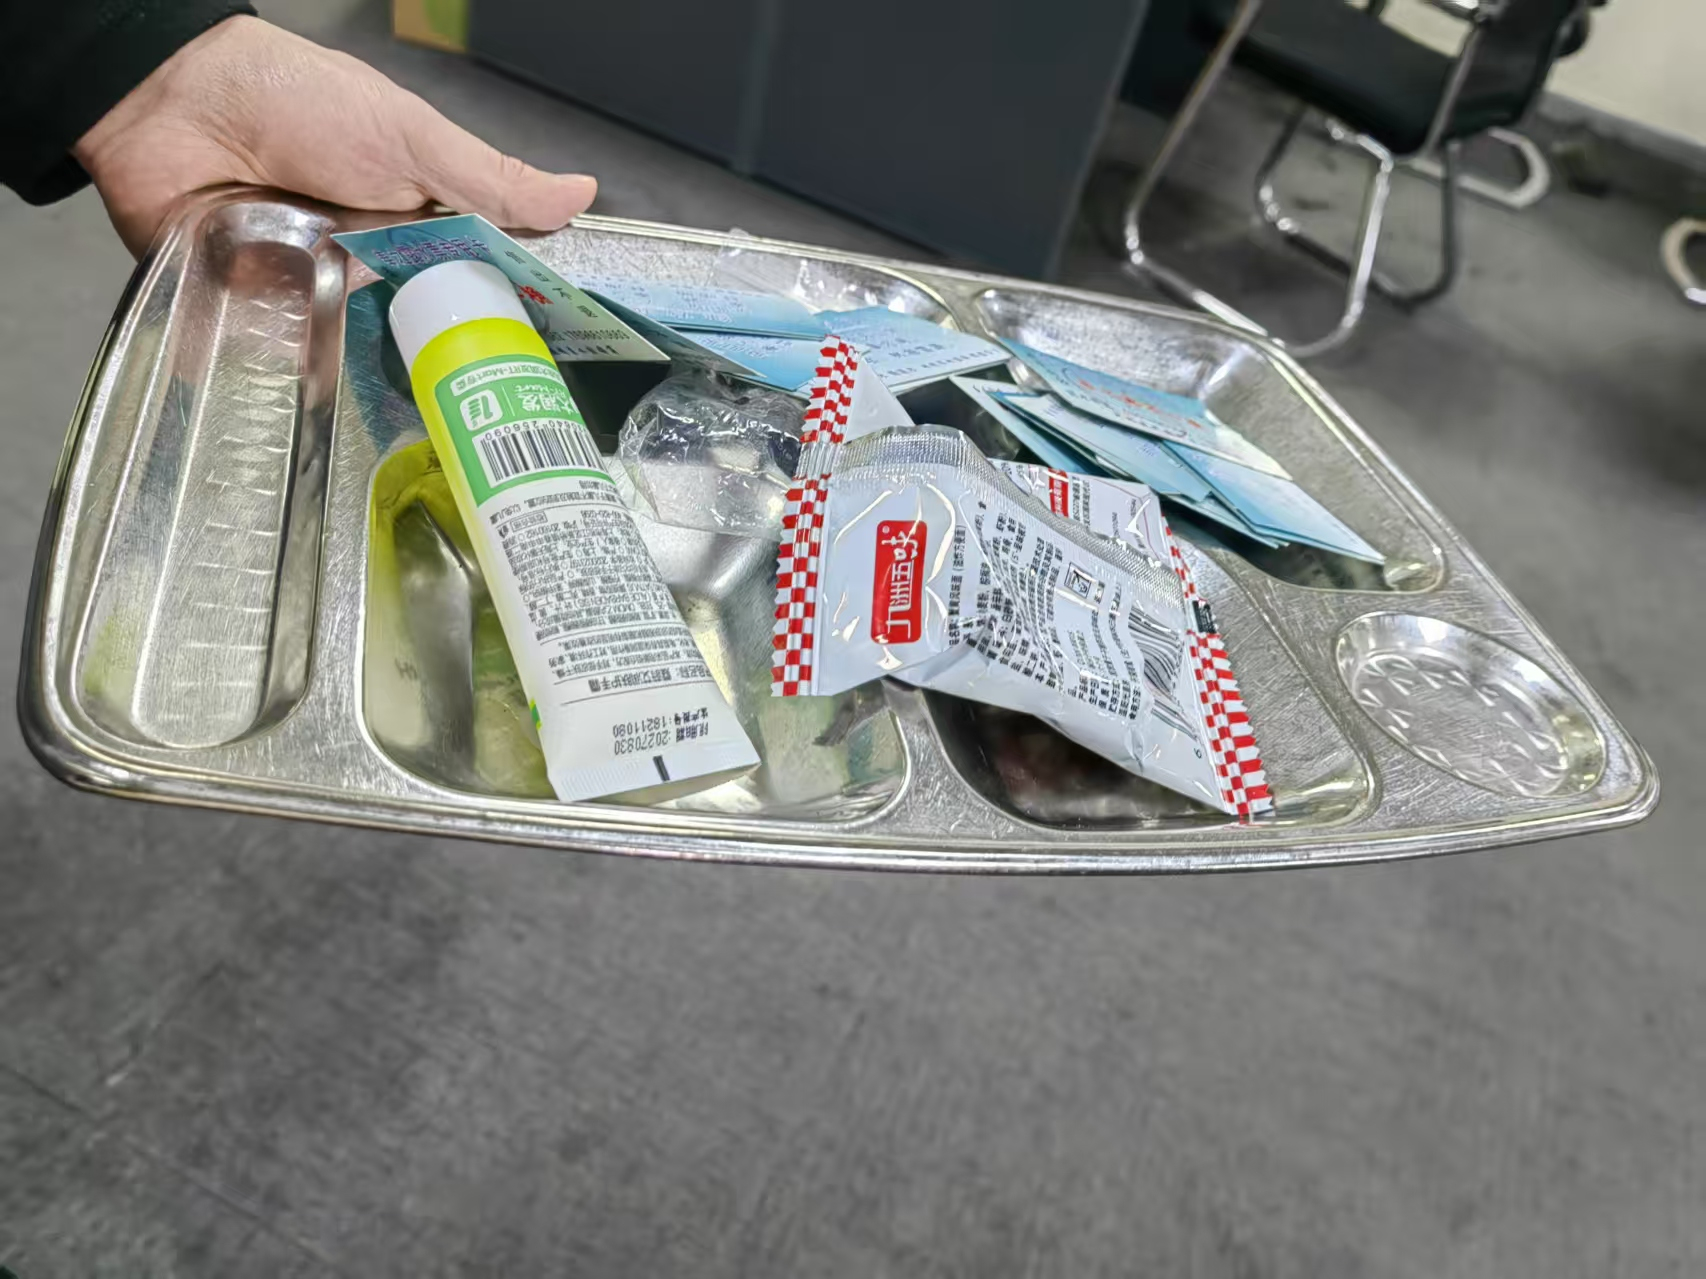plate: (16, 185, 1669, 880)
severe: (325, 216, 1391, 813)
